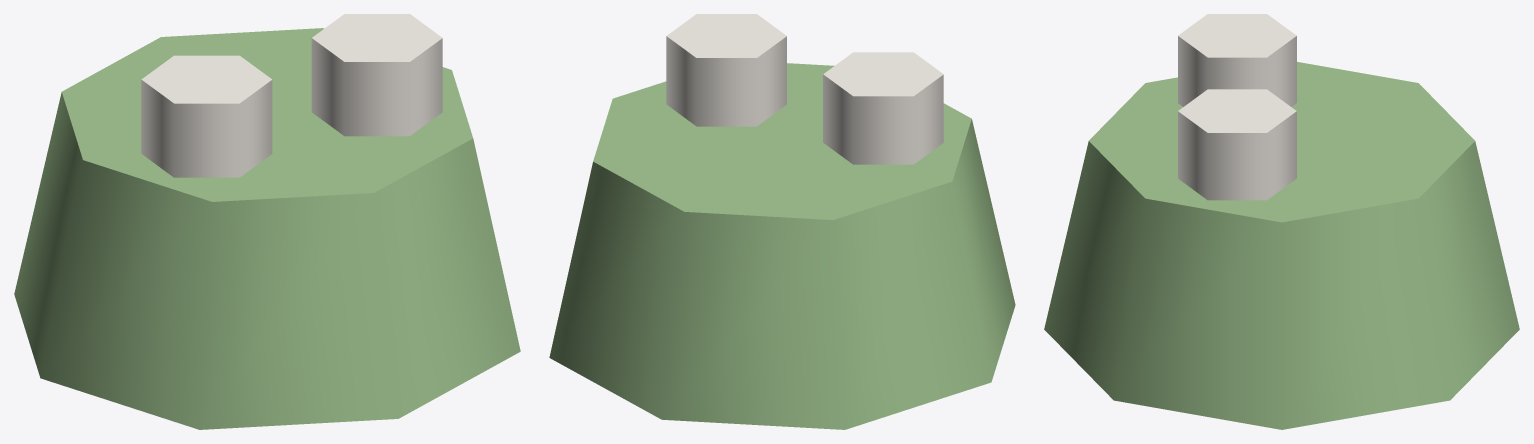
The model's file is frog.gltf.
3 renders of one model, left to right at view 1: azimuth 30°, elevation 25°; view 2: azimuth 150°, elevation 25°; view 3: azimuth 270°, elevation 25°, orthographic. The views are drawn at different scales.
Visible parts, largest first — view 1: FrogBody, FrogEyeL, FrogEyeR; view 2: FrogBody, FrogEyeR, FrogEyeL; view 3: FrogBody, FrogEyeR, FrogEyeL.
Boxes of the visible parts, x1=… form: FrogBody: x1=14, y1=28, x2=520, y2=429; FrogEyeL: x1=141, y1=55, x2=272, y2=177; FrogEyeR: x1=311, y1=14, x2=442, y2=136; FrogBody: x1=549, y1=63, x2=1015, y2=429; FrogEyeR: x1=666, y1=14, x2=786, y2=126; FrogEyeL: x1=823, y1=52, x2=943, y2=164; FrogBody: x1=1044, y1=62, x2=1519, y2=429; FrogEyeR: x1=1178, y1=89, x2=1296, y2=200; FrogEyeL: x1=1178, y1=14, x2=1296, y2=106.
Size of the model in its own units: 0.32 by 0.19 by 0.32.
